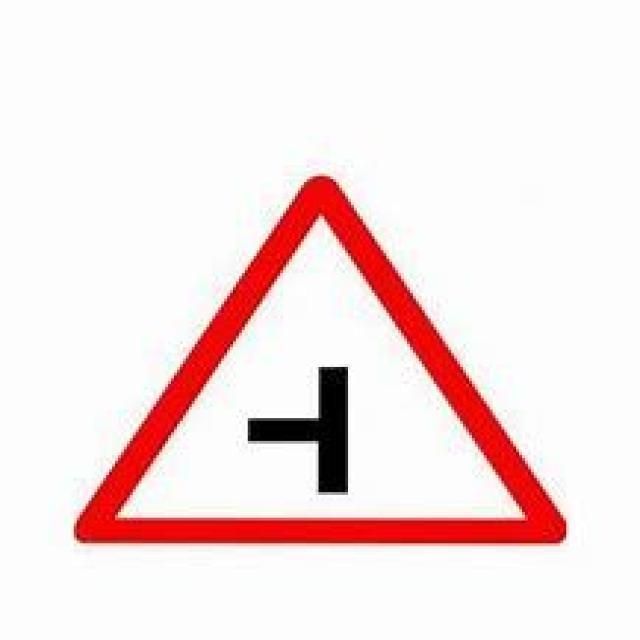side road left: (67, 165, 573, 555)
